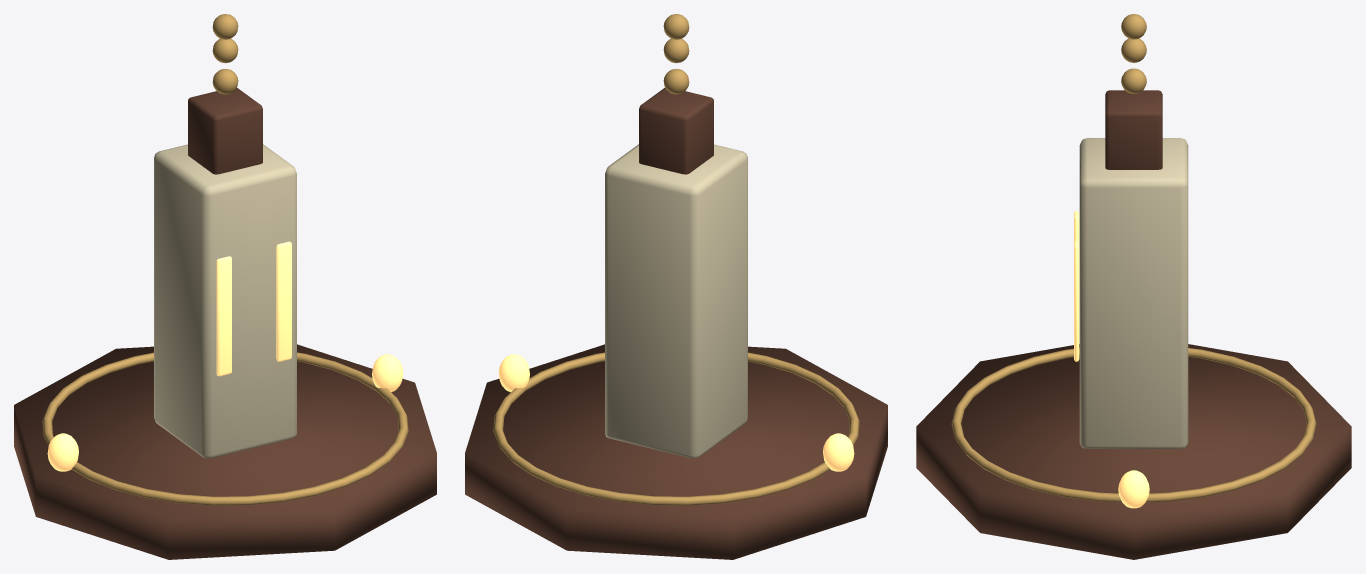
3 renders of one model, left to right at view 1: azimuth 30°, elevation 25°; view 2: azimuth 150°, elevation 25°; view 3: azimuth 270°, elevation 25°, orthographic.
Parts seen in each view (by area): view 1: Hexagonal plinth, Koutoubia minaret, Inlaid rim, Upper chamber, Zellij panel, Zellij panel.001, Garden inlay.001, Garden inlay, Copper finial, Copper finial.002, Copper finial.001; view 2: Hexagonal plinth, Koutoubia minaret, Inlaid rim, Upper chamber, Garden inlay.001, Garden inlay, Copper finial, Copper finial.002, Copper finial.001; view 3: Hexagonal plinth, Koutoubia minaret, Inlaid rim, Upper chamber, Garden inlay, Zellij panel.001, Copper finial, Copper finial.002.
Boxes of the visible parts, <box> form: Hexagonal plinth: <box>14,344,436,559</box>; Koutoubia minaret: <box>154,144,296,458</box>; Inlaid rim: <box>42,352,408,505</box>; Upper chamber: <box>188,88,262,174</box>; Zellij panel: <box>216,256,231,376</box>; Zellij panel.001: <box>276,241,291,361</box>; Garden inlay.001: <box>47,433,78,471</box>; Garden inlay: <box>372,354,403,392</box>; Copper finial: <box>212,69,238,94</box>; Copper finial.002: <box>212,14,238,39</box>; Copper finial.001: <box>212,38,238,63</box>; Hexagonal plinth: <box>465,344,887,559</box>; Koutoubia minaret: <box>605,144,747,458</box>; Inlaid rim: <box>493,352,859,505</box>; Upper chamber: <box>639,88,713,174</box>; Garden inlay.001: <box>823,433,854,471</box>; Garden inlay: <box>498,354,529,392</box>; Copper finial: <box>663,69,689,94</box>; Copper finial.002: <box>663,14,689,39</box>; Copper finial.001: <box>663,38,689,63</box>; Hexagonal plinth: <box>916,344,1351,559</box>; Koutoubia minaret: <box>1079,138,1188,448</box>; Inlaid rim: <box>951,348,1316,502</box>; Upper chamber: <box>1105,90,1162,169</box>; Garden inlay: <box>1118,470,1149,508</box>; Zellij panel.001: <box>1074,240,1079,361</box>; Copper finial: <box>1121,68,1146,93</box>; Copper finial.002: <box>1121,14,1146,39</box>.
Bounding box in the file's own units: 1.52 × 1.74 × 1.52.
